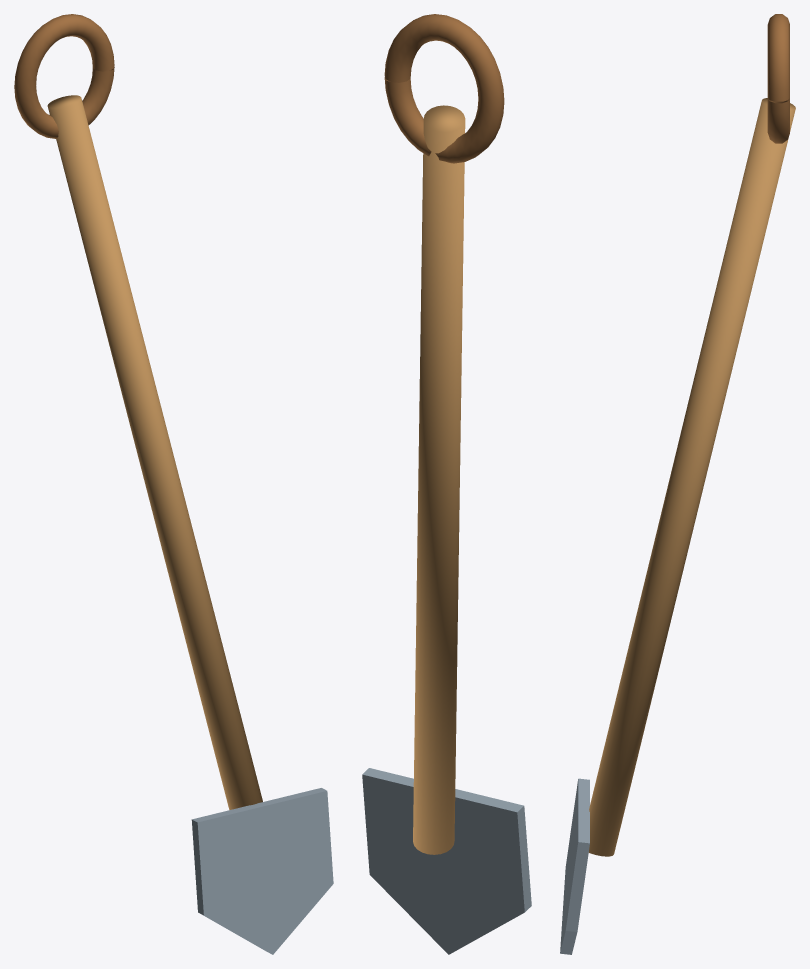
File: bosbouwer_graven_gereedschap.glb
The picture shows the model from 3 angles, left to right: view 1: azimuth 30°, elevation 25°; view 2: azimuth 150°, elevation 25°; view 3: azimuth 270°, elevation 25°; orthographic projection. The views are drawn at different scales.
Visible parts, largest first — view 1: Shovel_wooden_shaft, Shovel_steel_blade, Shovel_D_grip; view 2: Shovel_wooden_shaft, Shovel_steel_blade, Shovel_D_grip; view 3: Shovel_wooden_shaft, Shovel_steel_blade, Shovel_D_grip.
Part boxes in pixels (x1,y1,x2,y2): Shovel_wooden_shaft: (47, 95, 262, 809); Shovel_steel_blade: (191, 788, 333, 954); Shovel_D_grip: (14, 14, 114, 138); Shovel_wooden_shaft: (413, 105, 465, 854); Shovel_steel_blade: (362, 768, 531, 954); Shovel_D_grip: (384, 14, 504, 163); Shovel_wooden_shaft: (588, 98, 795, 856); Shovel_steel_blade: (560, 778, 589, 954); Shovel_D_grip: (767, 14, 789, 143).
Bounding box in the file's own units: 0.3502 × 1.4 × 0.3372.
